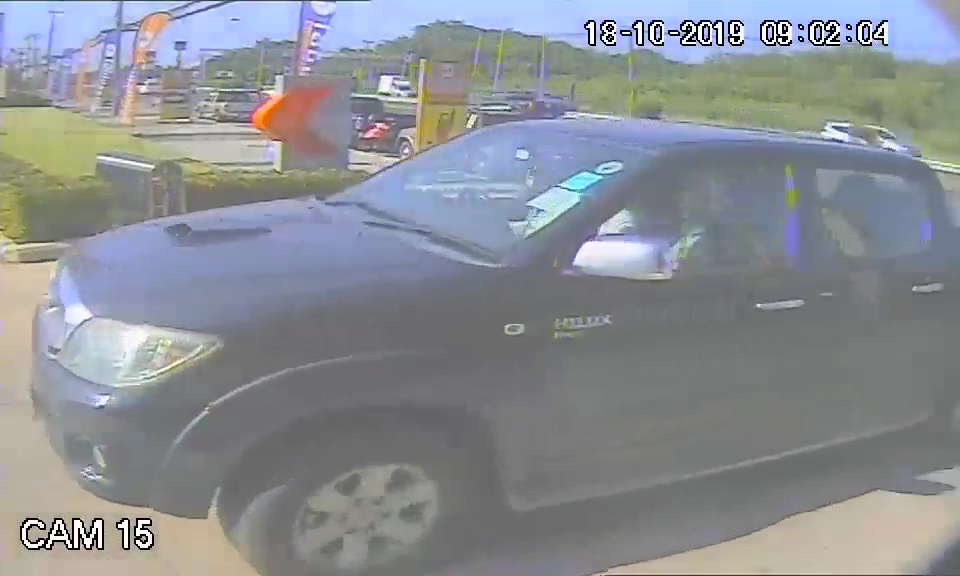pickup: (24, 112, 946, 521)
